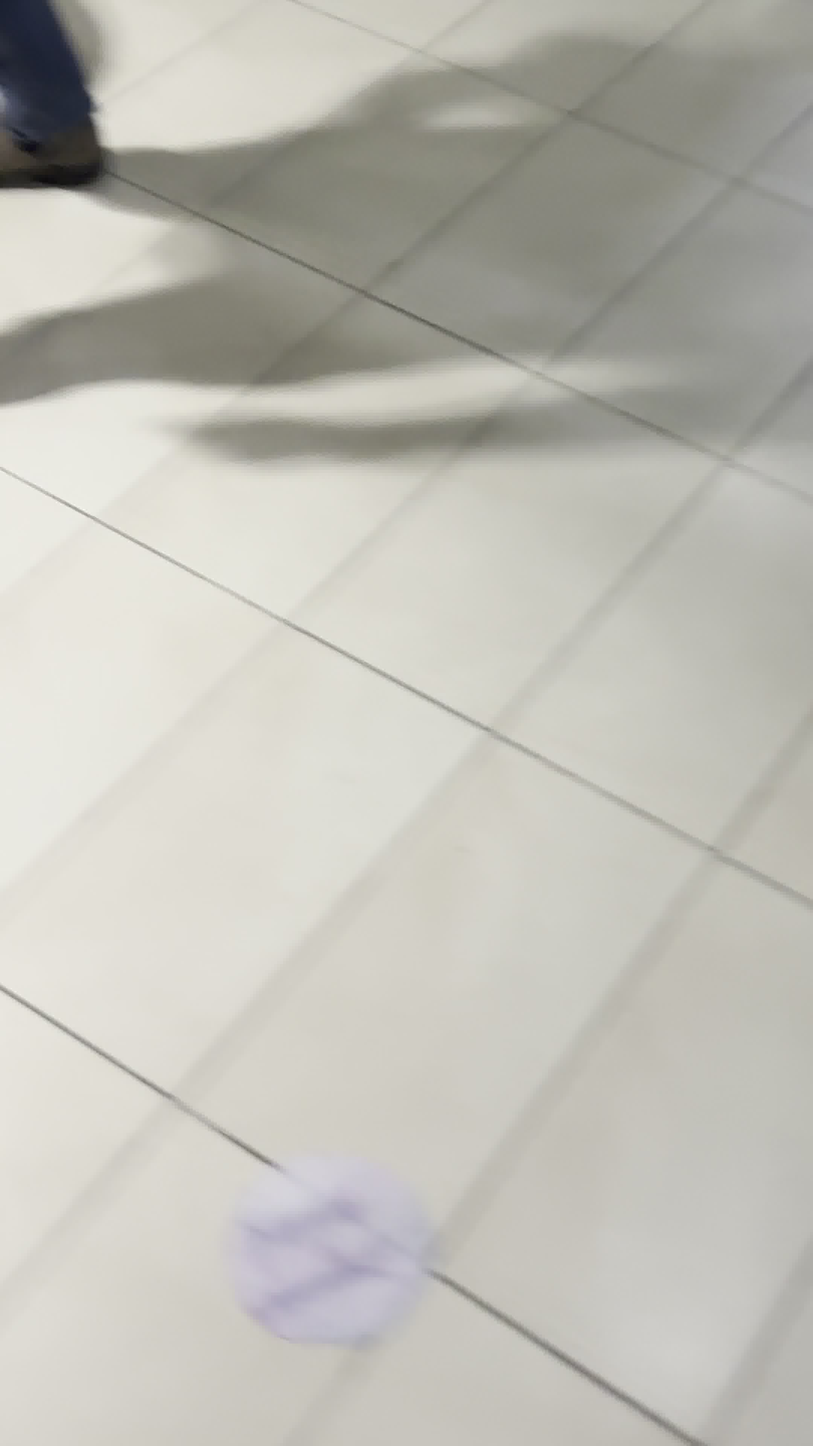Target: (215, 1164, 427, 1347)
